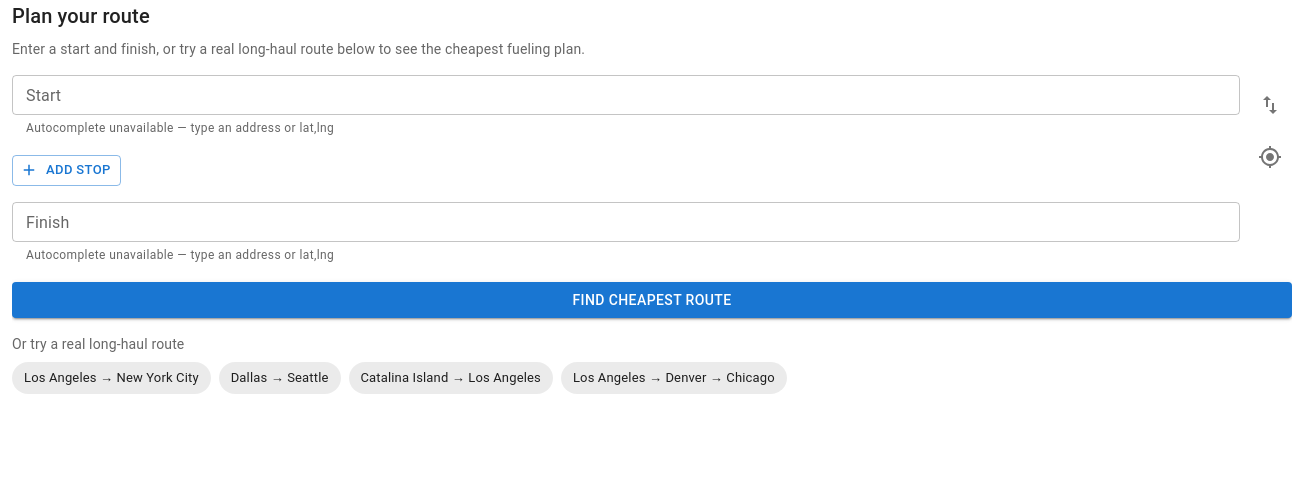
Test: the LA -> Denver -> Chicago demo chip populates one middle stop and solves with the Denver coordinate
Click the button "Los Angeles → Denver → Chicago". click: (674, 378)
box: [561,362,787,394]
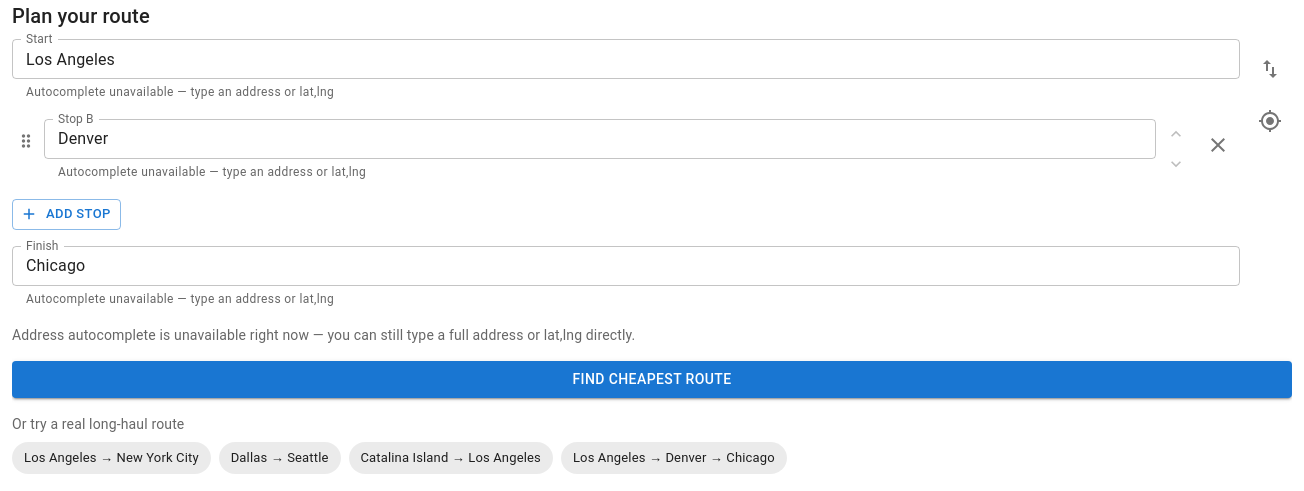
Expected: the dropdown labelled "Stop B" holds "Denver", [50,125,1117,153]
Expected: the dropdown labelled "Start" holds "Los Angeles", [18,45,1201,73]
Expected: the dropdown labelled "Finish" holds "Chicago", [18,252,1201,280]
